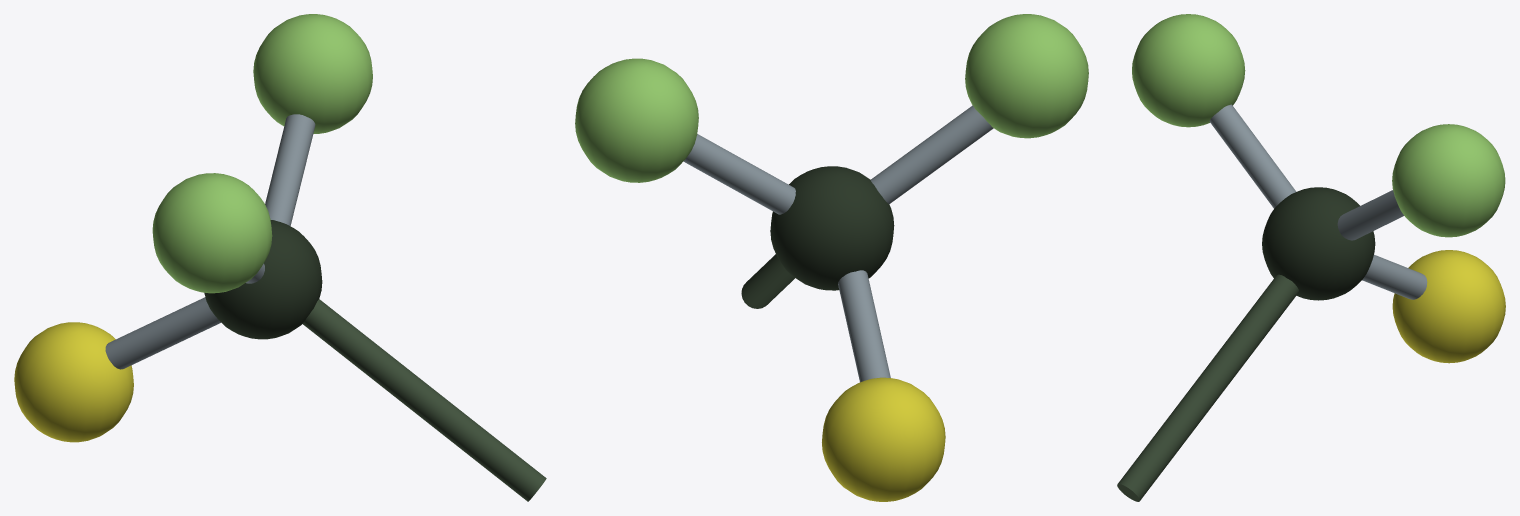
Rendered from flourInicio.fbx.
3 views of the same model, side by side, from view 1: azimuth 30°, elevation 25°; view 2: azimuth 150°, elevation 25°; view 3: azimuth 270°, elevation 25° (orthographic). The views are drawn at different scales.
Parts seen in each view (by area): view 1: monomero_inicial_enlaceHidrogeno11; view 2: monomero_inicial_enlaceHidrogeno11; view 3: monomero_inicial_enlaceHidrogeno11.
Boxes of the visible parts, x1,y1,x2,y2 form: monomero_inicial_enlaceHidrogeno11: (14, 14, 546, 501); monomero_inicial_enlaceHidrogeno11: (575, 14, 1088, 501); monomero_inicial_enlaceHidrogeno11: (1117, 14, 1505, 501).
Size of the model in its own units: 1.04 by 1.03 by 1.04.
